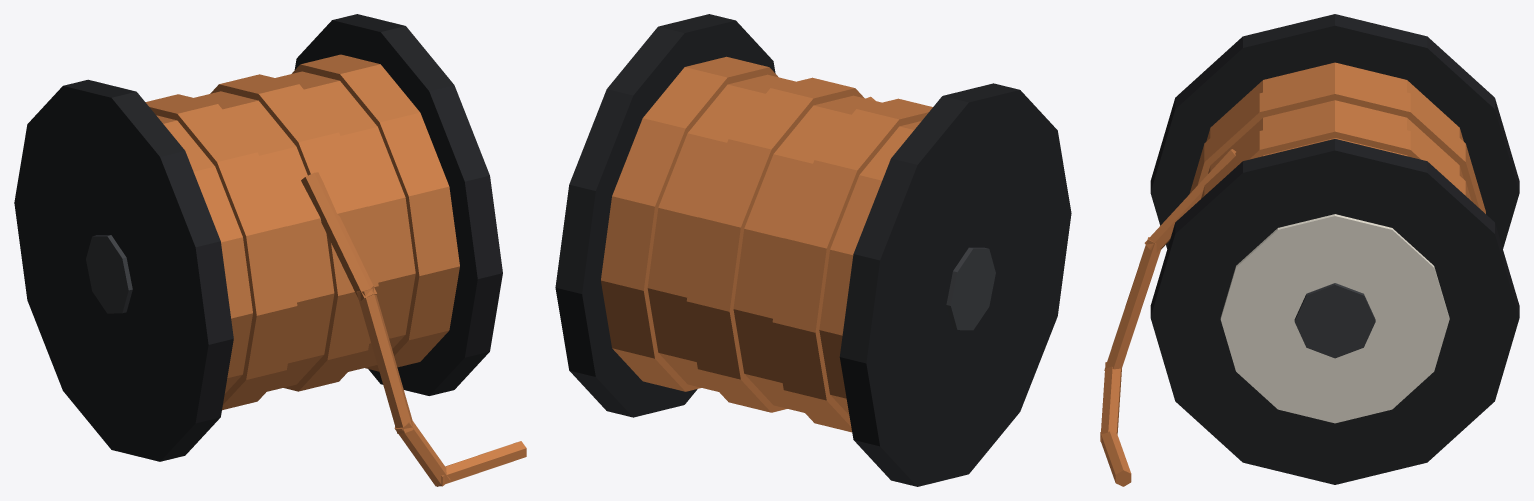
File: coil_basic.glb
The picture shows the model from 3 angles, left to right: view 1: azimuth 30°, elevation 25°; view 2: azimuth 150°, elevation 25°; view 3: azimuth 270°, elevation 25°; orthographic projection. The views are drawn at different scales.
Parts seen in each view (by area): view 1: coil_basic; view 2: coil_basic; view 3: coil_basic.
Boxes of the visible parts, x1,y1,x2,y2 form: coil_basic: (14, 14, 526, 486); coil_basic: (555, 14, 1071, 486); coil_basic: (1100, 14, 1519, 486).
Bounding box in the file's own units: 0.146 × 0.16 × 0.1818.
